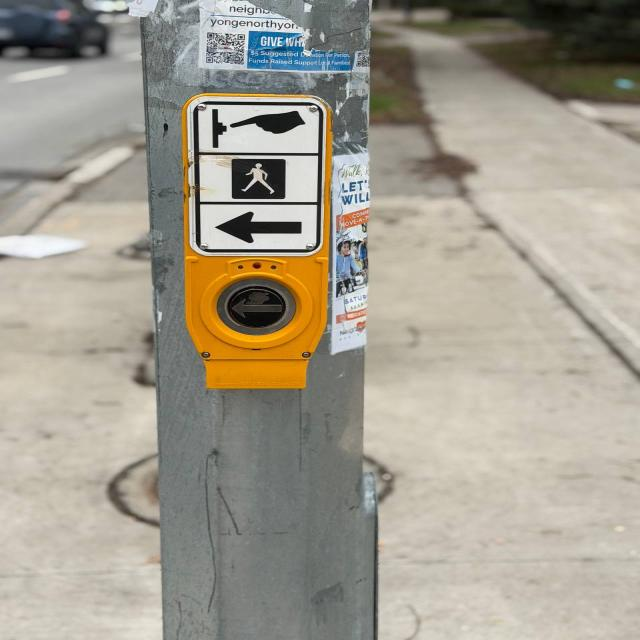Electrical Pole: (135, 0, 391, 640)
